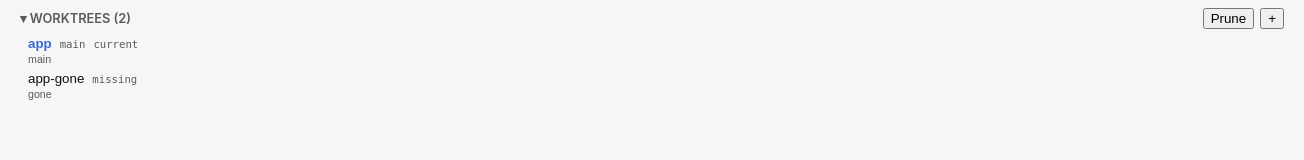
Test case: WorktreesPanel open › should disable Open for a missing worktree with Folder not found
expect the list named "Worktree list" is shown: met, box [12,33,1292,111]
Double-click the button "app-gone missing gone".
double_click(56, 78)  # box [12,68,1292,103]
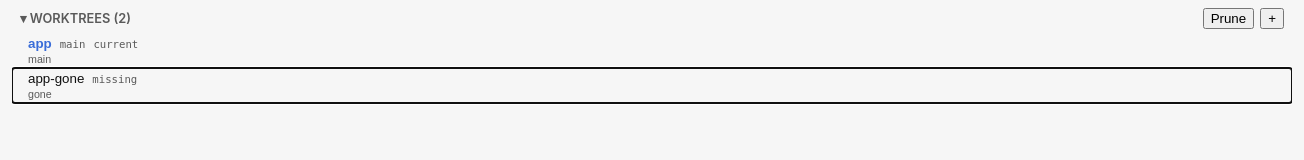
Right-click the button "app-gone missing gone".
right_click(56, 78)  # box [12,68,1292,103]
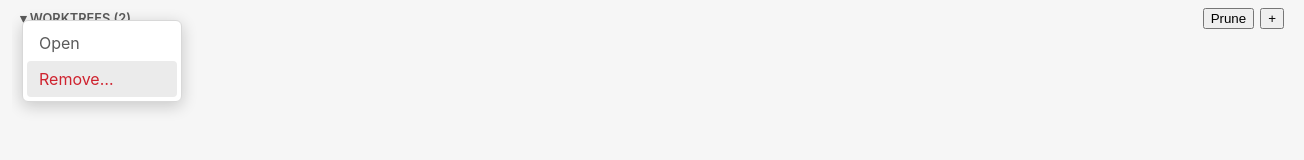
expect the menu item "Open" is disabled: met, box [27,25,177,61]
